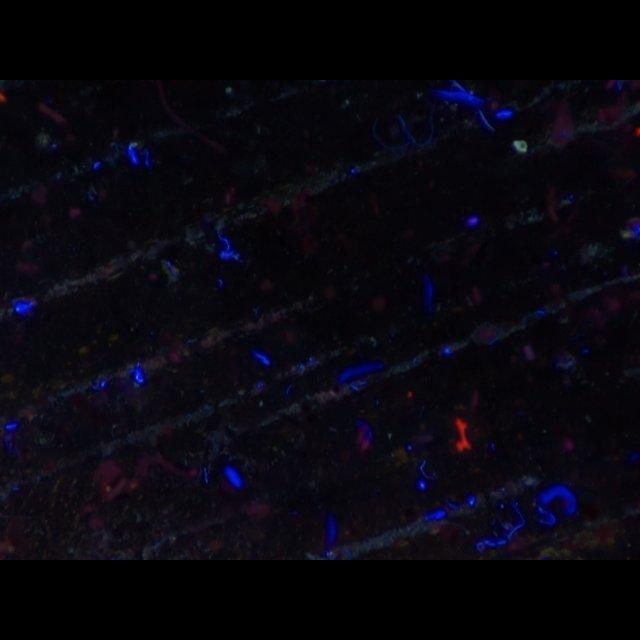microbeads: (510, 138, 530, 156)
